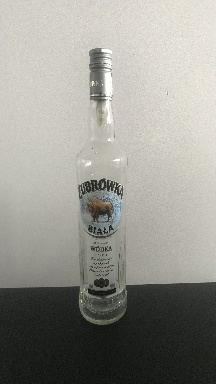butelka: (74, 45, 128, 327)
